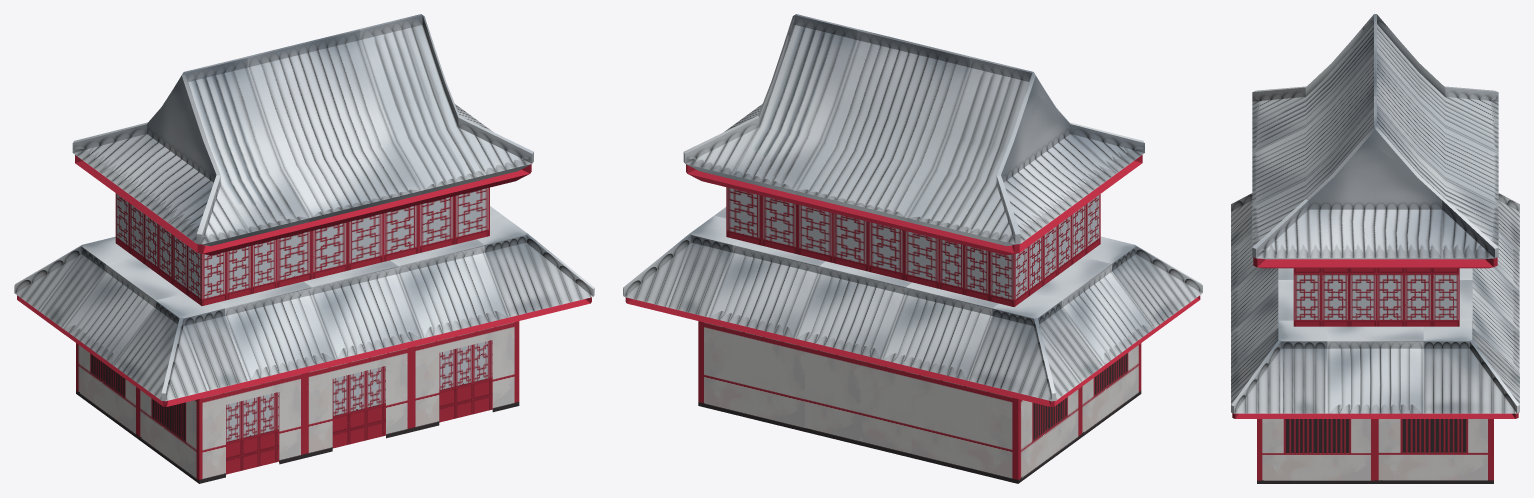
The model's file is Building 1 Dark.fbx.
3 views of the same model, side by side, from view 1: azimuth 30°, elevation 25°; view 2: azimuth 150°, elevation 25°; view 3: azimuth 270°, elevation 25° (orthographic). The views are drawn at different scales.
Parts seen in each view (by area): view 1: Building 1; view 2: Building 1; view 3: Building 1.
Part boxes in pixels (left/top/right/bottom): Building 1: left=14, top=14, right=594, bottom=483; Building 1: left=623, top=14, right=1202, bottom=483; Building 1: left=1231, top=14, right=1519, bottom=483.
Size of the model in its own units: 116 by 90.95 by 69.67.
6 materials, 6 textured.
